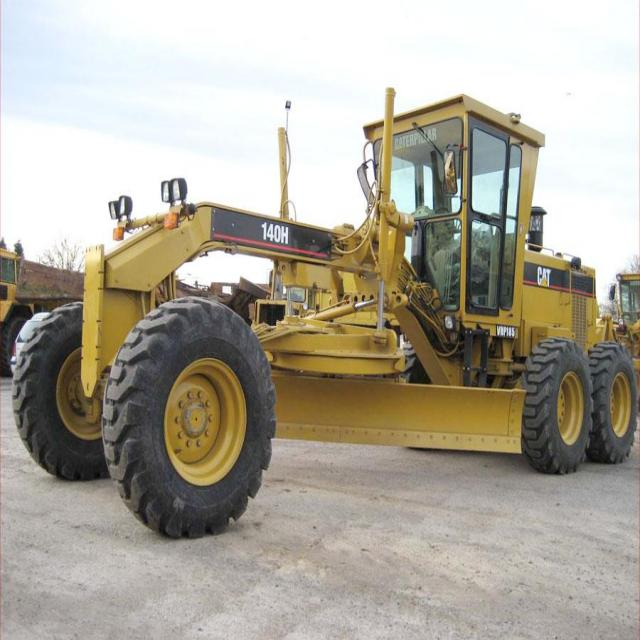Grader: (12, 55, 639, 539)
